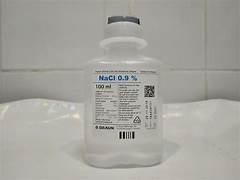Iv_Bottle: (84, 16, 162, 167)
